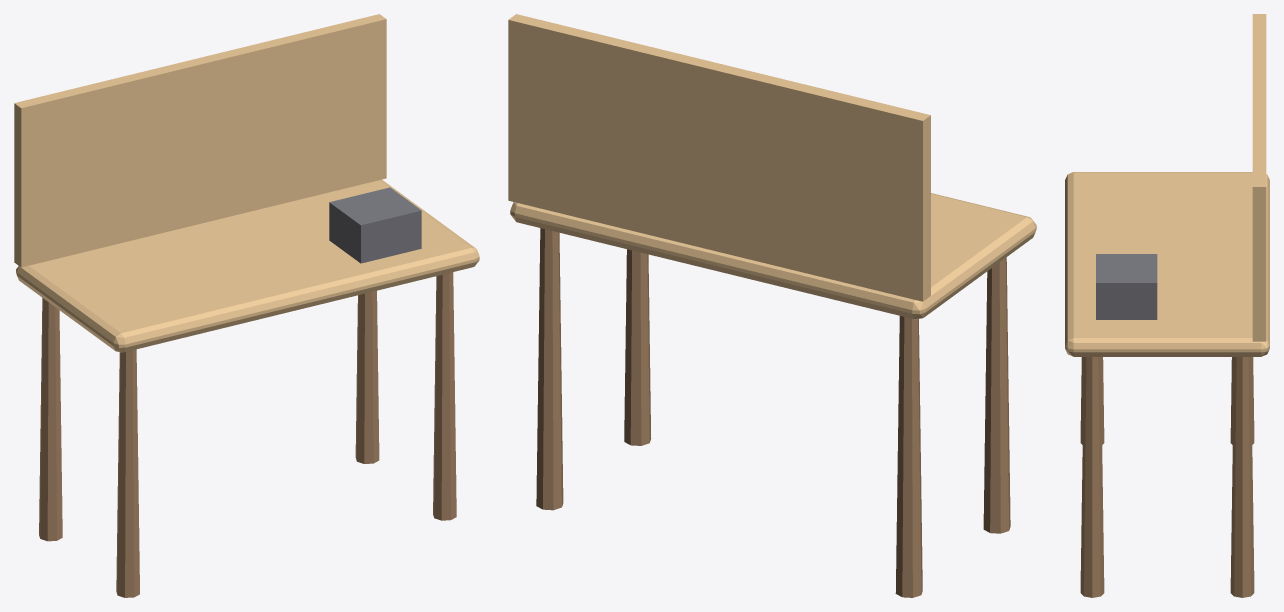
The model's file is cozy-home-interiors-small-workbench-cc75fdcf.glb.
3 views of the same model, side by side, from view 1: azimuth 30°, elevation 25°; view 2: azimuth 150°, elevation 25°; view 3: azimuth 270°, elevation 25° (orthographic). The views are drawn at different scales.
Parts seen in each view (by area): view 1: small-workbench; view 2: small-workbench; view 3: small-workbench.
Boxes of the visible parts, x1=… form: small-workbench: x1=14, y1=14, x2=479, y2=597; small-workbench: x1=508, y1=14, x2=1036, y2=597; small-workbench: x1=1065, y1=14, x2=1269, y2=597.
Size of the model in its own units: 1.2 by 1.35 by 0.6001.
